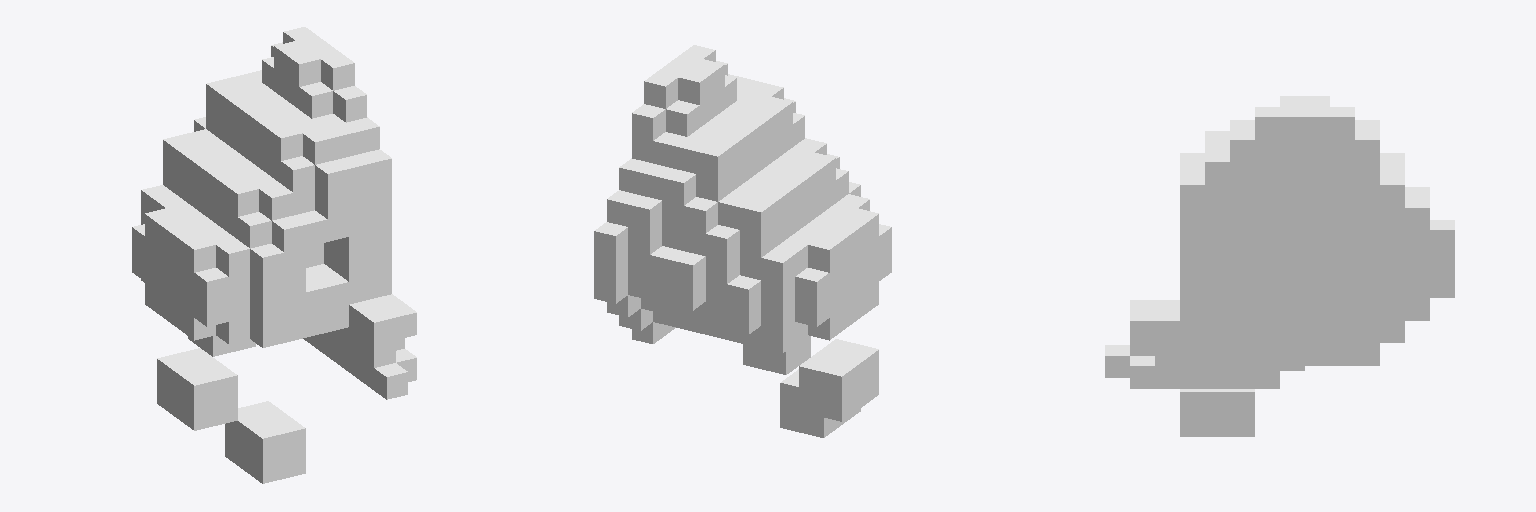
File: SpaceInvader4.2.obj
3 renders of one model, left to right at view 1: azimuth 30°, elevation 25°; view 2: azimuth 150°, elevation 25°; view 3: azimuth 270°, elevation 25°, orthographic.
Parts seen in each view (by area): view 1: object 1; view 2: object 1; view 3: object 1.
Part boxes in pixels (bbox=[...]): object 1: bbox=[132, 27, 416, 483]; object 1: bbox=[594, 45, 891, 437]; object 1: bbox=[1105, 96, 1454, 436].
Size of the model in its own units: 0.8 by 1.6 by 1.4.